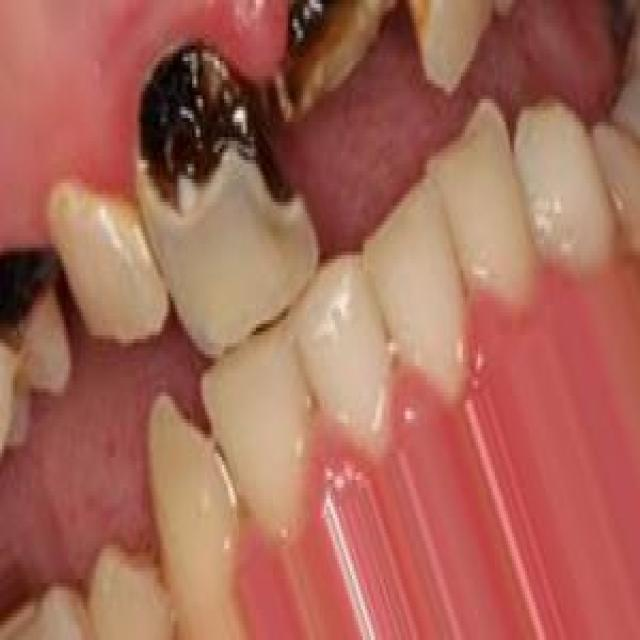caries: (129, 48, 305, 232), (271, 0, 383, 109), (0, 240, 73, 396)
